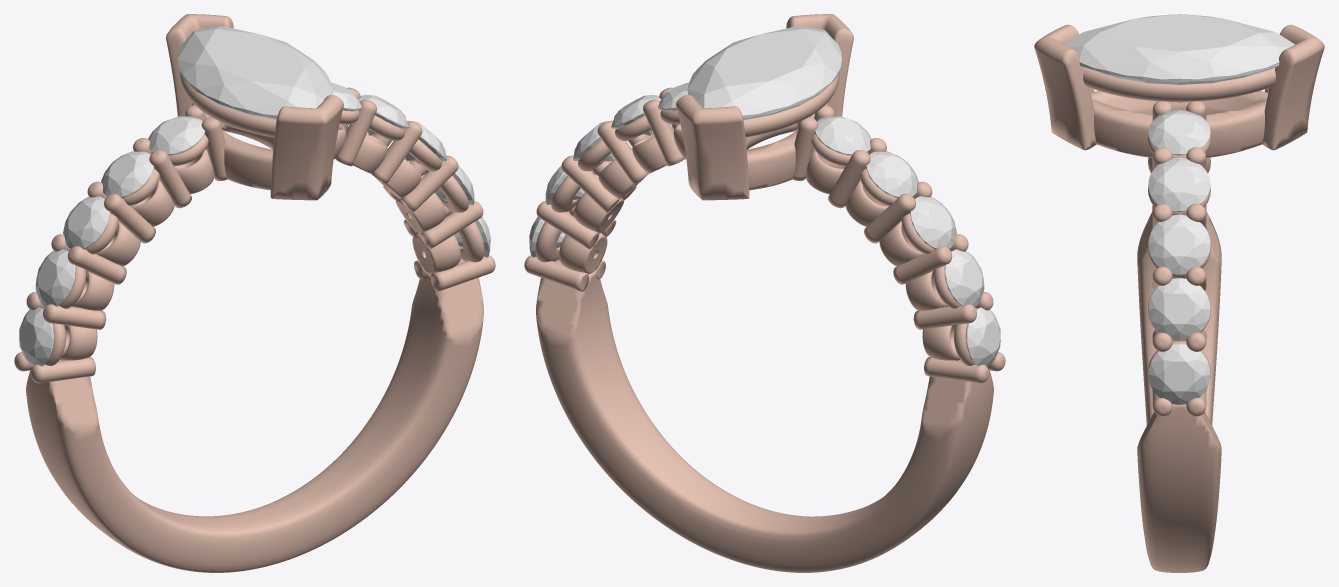
The model's file is diamond-marquise-rosegold-protectededges2prongs-straighttaperedband-11stone.glb.
3 renders of one model, left to right at view 1: azimuth 30°, elevation 25°; view 2: azimuth 150°, elevation 25°; view 3: azimuth 270°, elevation 25°, orthographic. The views are drawn at different scales.
Visible parts, largest first — view 1: metal, stone, dia.004, dia.005, dia.003, dia.006, dia, dia.010; view 2: metal, stone, dia.004, dia.005, dia.003, dia.006, dia, dia.010; view 3: metal, stone, dia.008, dia.007, dia.009, dia.010, dia.011.
Part boxes in pixels (<box>): metal: <box>14,14,495,572</box>; stone: <box>177,26,332,119</box>; dia.004: <box>63,196,109,249</box>; dia.005: <box>101,151,153,197</box>; dia.003: <box>35,249,75,306</box>; dia.006: <box>148,116,205,155</box>; dia: <box>19,307,54,366</box>; dia.010: <box>358,95,408,135</box>; metal: <box>524,14,1005,572</box>; stone: <box>687,26,842,119</box>; dia.004: <box>910,196,956,249</box>; dia.005: <box>866,151,918,197</box>; dia.003: <box>944,249,984,306</box>; dia.006: <box>814,116,871,155</box>; dia: <box>965,307,1000,366</box>; dia.010: <box>611,95,661,135</box>; metal: <box>1034,24,1324,572</box>; stone: <box>1063,14,1295,103</box>; dia.008: <box>1148,278,1210,340</box>; dia.007: <box>1148,343,1210,404</box>; dia.009: <box>1148,214,1210,274</box>; dia.010: <box>1148,157,1210,211</box>; dia.011: <box>1148,110,1210,155</box>.
Bounding box in the file's own units: 21.97 × 22.94 × 11.69.
